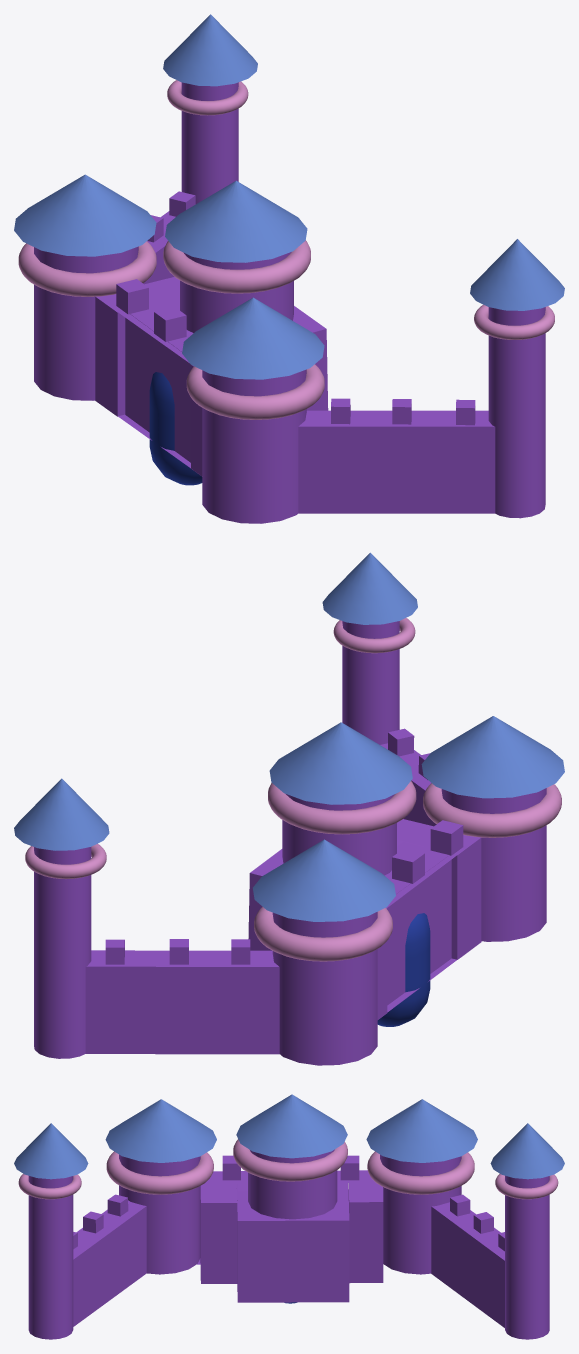
File: castle.fbx
3 renders of one model, top to bottom at view 1: azimuth 30°, elevation 25°; view 2: azimuth 150°, elevation 25°; view 3: azimuth 270°, elevation 25°, orthographic. The views are drawn at different scales.
Parts seen in each view (by area): view 1: wall1, Cylinder_1, Cylinder_2, Cylinder_1_2, Cone_1_2, Cone_1_3, Cone_1, Cube_2, Cylinder_3, Cone_2, Cone, Cube (+13 smaller); view 2: wall, Cylinder_1_2, Cylinder_3, Cylinder_1, Cone_1, Cone_1_3, Cone_1_2, Cylinder_2, Cube_2, Cone, Cone_2, Cube_1 (+13 smaller); view 3: Bwall, Cylinder_2, Cylinder_3, wall1, wall, Cylinder_1, Cylinder_1_2, Cone_1, Cone_1_2, Cone_1_3, Cube_1, Cylinder (+15 smaller).
Boxes of the visible parts, x1,y1,x2,y2 form: wall1: (298, 410, 495, 513); Cylinder_1: (202, 369, 306, 523); Cylinder_2: (488, 307, 545, 518); Cylinder_1_2: (34, 246, 138, 400); Cone_1_2: (182, 297, 324, 379); Cone_1_3: (14, 174, 156, 256); Cone_1: (165, 180, 307, 262); Cube_2: (125, 300, 193, 462); Cylinder_3: (181, 82, 238, 203); Cone_2: (163, 14, 257, 86); Cone: (470, 239, 564, 310); Cube: (95, 277, 179, 416); wall: (85, 950, 279, 1054); Cylinder_1_2: (272, 912, 377, 1065); Cylinder_3: (34, 847, 91, 1058); Cylinder_1: (441, 788, 546, 941); Cone_1: (269, 722, 412, 804); Cone_1_3: (253, 839, 395, 921); Cone_1_2: (421, 716, 564, 798); Cylinder_2: (342, 621, 399, 744); Cube_2: (384, 842, 451, 1005); Cone: (322, 552, 417, 624); Cone_2: (14, 778, 109, 850); Cube_1: (397, 819, 481, 959); Bwall: (236, 1183, 349, 1302); Cylinder_2: (28, 1176, 73, 1339); Cylinder_3: (505, 1175, 549, 1339); wall1: (73, 1200, 146, 1326); wall: (431, 1202, 504, 1327); Cylinder_1: (119, 1154, 200, 1274); Cylinder_1_2: (380, 1154, 461, 1274); Cone_1: (236, 1094, 347, 1158); Cone_1_2: (105, 1099, 216, 1162); Cone_1_3: (366, 1099, 477, 1162); Cube_1: (200, 1183, 237, 1283); Cylinder: (248, 1149, 337, 1219).
Size of the model in its own units: 716 by 722 by 1481.
